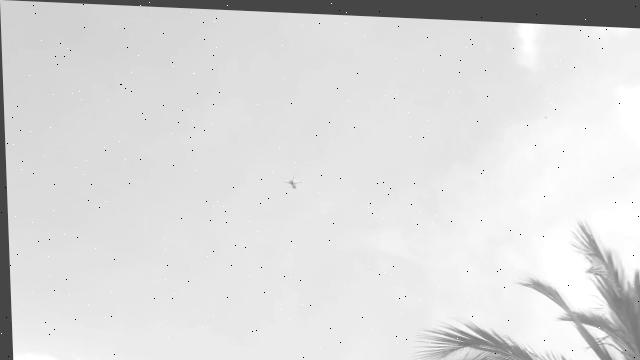drone: (8, 274, 640, 360)
